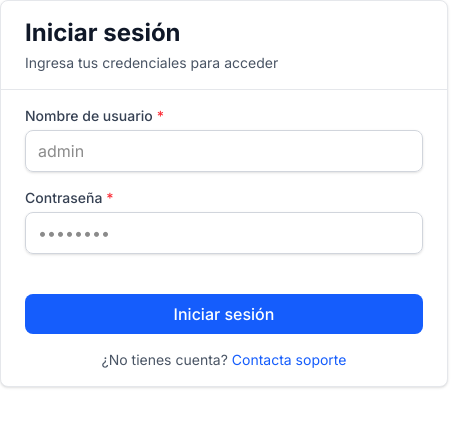
LoginForm Component › should show validation error for short username
The width and height of the screenshot is (465, 429).
Type "ab" into the field labelled "Nombre de usuario*".
click(224, 151); type("ab")  # box x1=25 y1=130 x2=423 y2=172
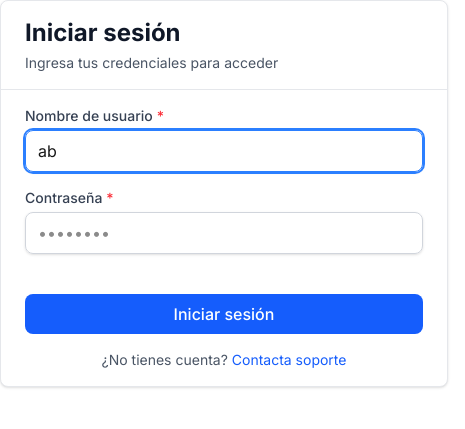
Press Tab
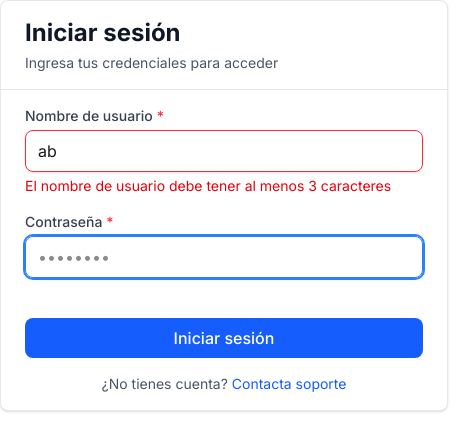
expect the text "El nombre de usuario debe tener al menos 3 caracteres" is shown: met, box x1=25 y1=176 x2=423 y2=196
